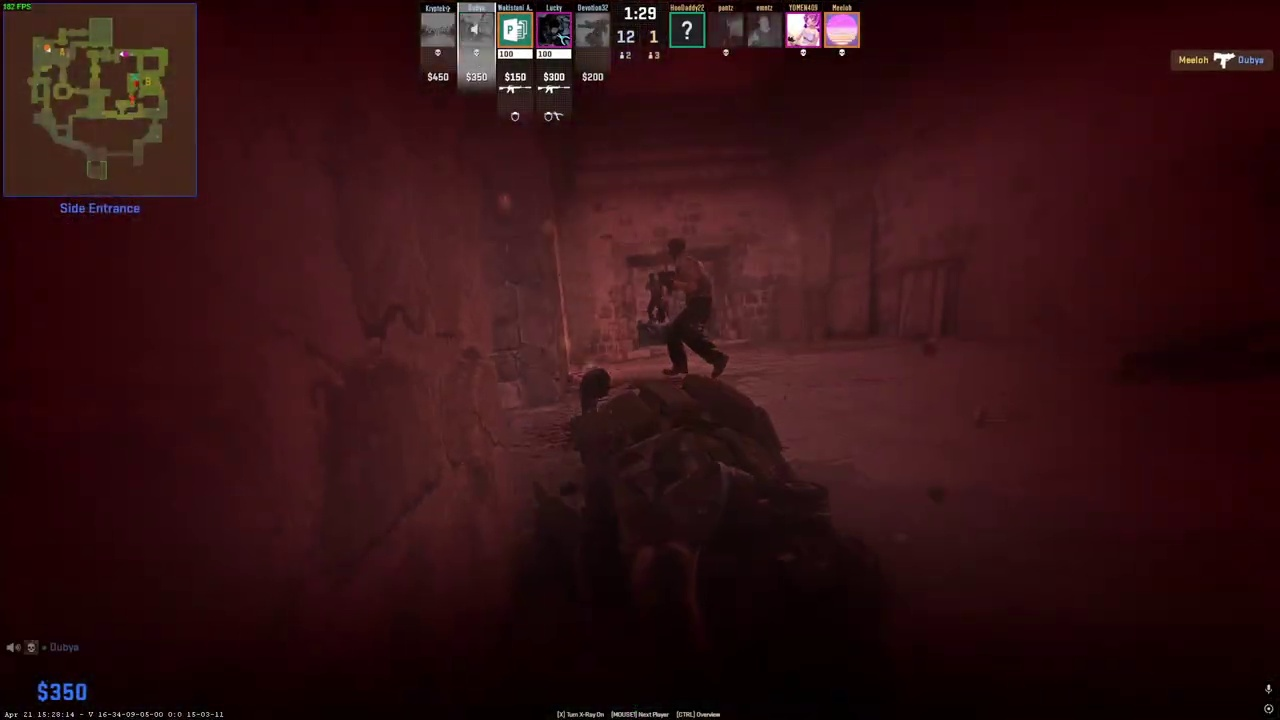Terrorist: (660, 236, 725, 380), (645, 273, 662, 323)
